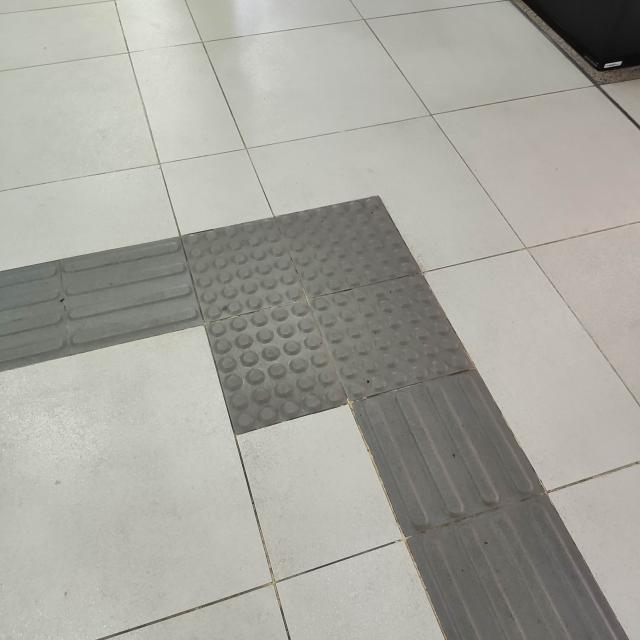kiri: (6, 142, 538, 503)
